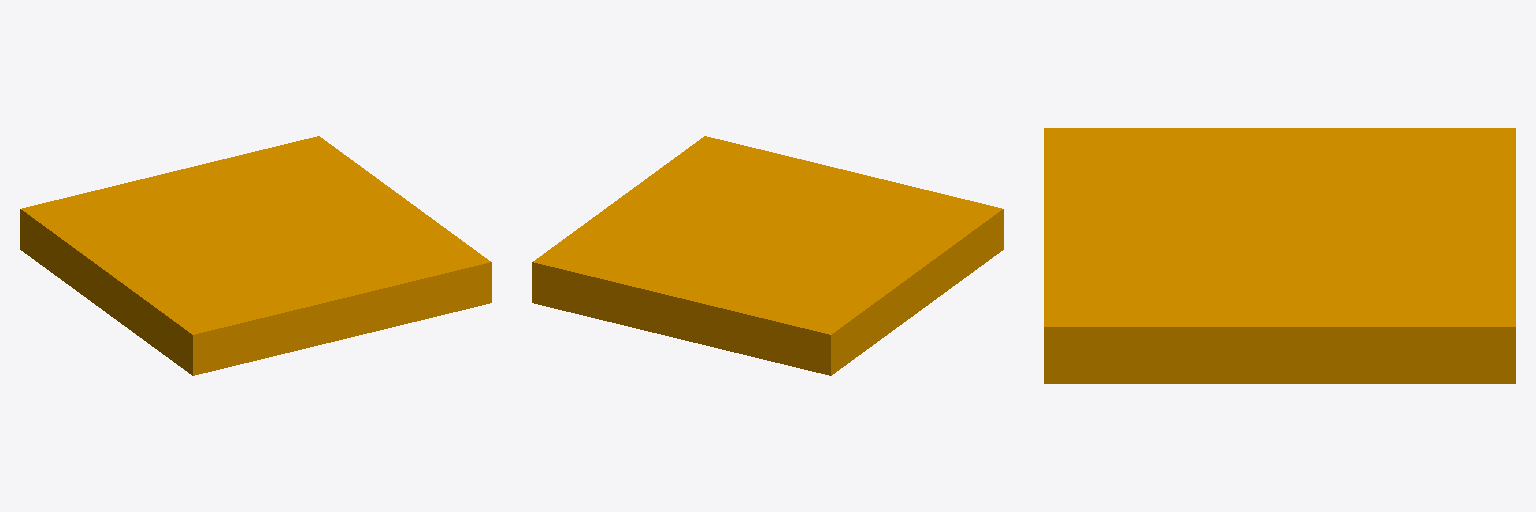
The robot description file, URDF, robot "ar_tag":
<robot name="ar_tag">
	<material name="white">
    	<color rgba="1.0 1.0 1.0 0.5"/>
    </material>  
	<link name="simple_box_base_link">
		<inertial>
			<origin xyx="0 0 0" rpy="0 0 0"/>
			<mass value="1.0"/>
			<inertia ixx="0.0741" ixy="0.0" ixz="0.0" iyy="0.058" iyz="0.0" izz="0.026"/>
		</inertial>
		<collision>
			<origin xyx="0 0 0" rpy="0 0 0" />
			<geometry>
				<box size="0.2 0.2 0.2"/>
			</geometry>
		</collision>
		<visual>
			<origin rpy="0.0 0.0 0.0" xyz="0.0 0.0 0.0"/>
			<geometry>
				<mesh filename="package://inferno_bot/meshes/artag.dae"/>
			</geometry>
		</visual>
	</link>
	<gazebo reference="simple_box_base_link">
		<kp>100000.0</kp>
		<kd>100000.0</kd>
		<mu1>0.1</mu1>
		<mu2>0.1</mu2>
		<fdir1>1 0 0</fdir1>
	</gazebo>
</robot>

--- Render facts (derived) ---
The picture shows the robot from 3 angles, left to right: view 1: azimuth 30°, elevation 25°; view 2: azimuth 150°, elevation 25°; view 3: azimuth 270°, elevation 25°; orthographic projection.
Robot: ar_tag — 1 links, 0 joints (none); root link simple_box_base_link; default pose: all joints at 0.
Links seen in each view (by area): view 1: simple_box_base_link; view 2: simple_box_base_link; view 3: simple_box_base_link.
Boxes of the visible links, <box> form: simple_box_base_link: <box>20,136,491,375</box>; simple_box_base_link: <box>532,136,1003,375</box>; simple_box_base_link: <box>1044,128,1515,383</box>.
Bounding box of the posed robot: 0.18 × 0.18 × 0.0237 m (x, y, z).
Meshes: 1 distinct files referenced, 1 mesh visuals loaded (1 Collada DAE).